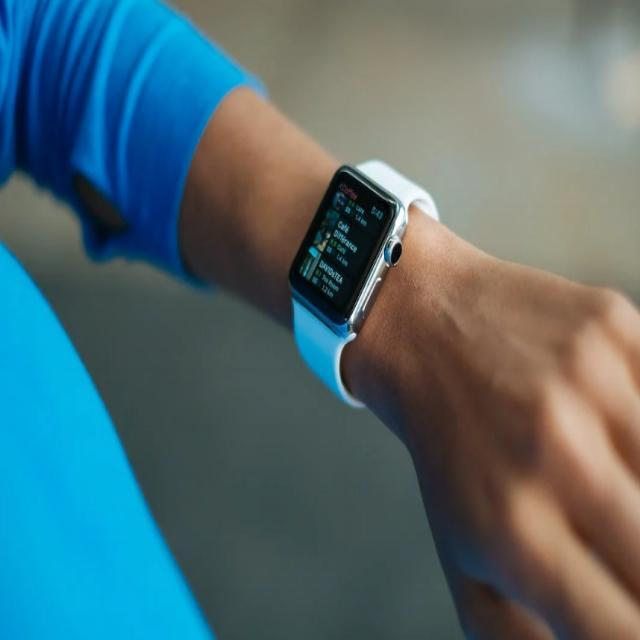Watch: (284, 158, 438, 406)
